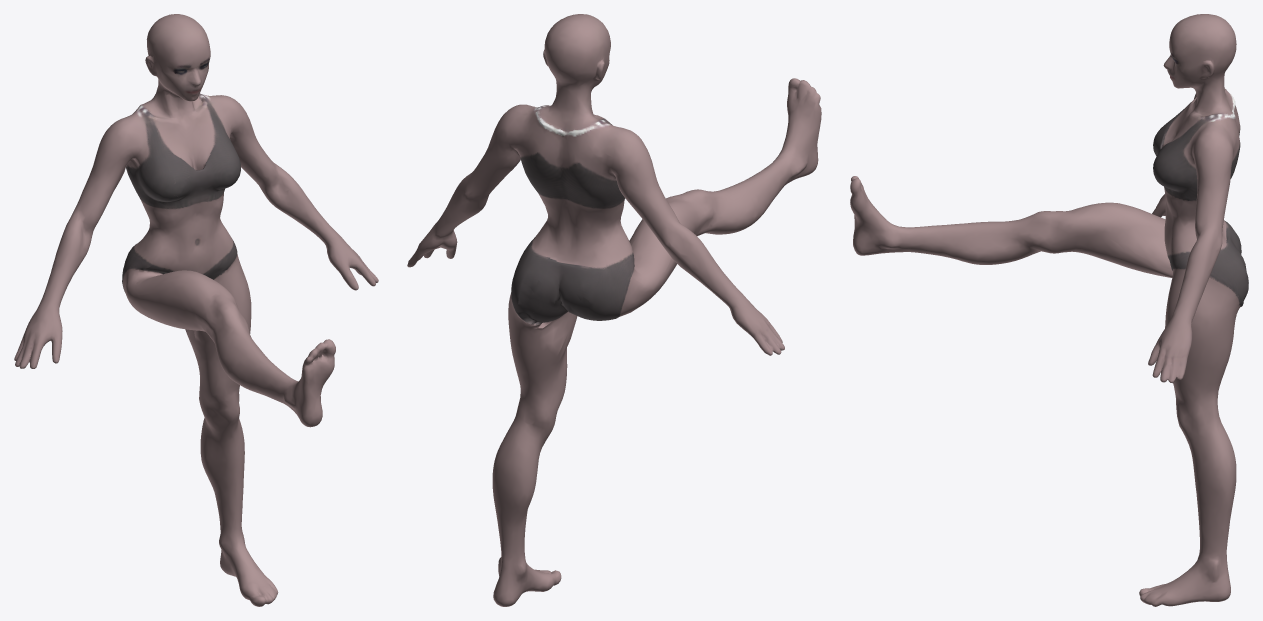
File: bounded-ThighL-90.glb
3 renders of one model, left to right at view 1: azimuth 30°, elevation 25°; view 2: azimuth 150°, elevation 25°; view 3: azimuth 270°, elevation 25°, orthographic. The views are drawn at different scales.
Visible parts, largest first — view 1: bounded-ThighL-90; view 2: bounded-ThighL-90; view 3: bounded-ThighL-90.
Part boxes in pixels (x1,y1,x2,y2): bounded-ThighL-90: (14,14,378,606); bounded-ThighL-90: (407,14,821,606); bounded-ThighL-90: (850,14,1248,606).
Bounding box in the file's own units: 0.6508 × 1 × 0.6488.
Materials: 1 (1 with a texture image).
